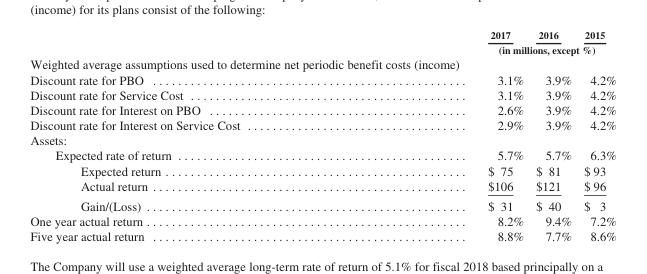table: (29, 28, 615, 242)
table column: (29, 28, 363, 242), (363, 28, 529, 242), (529, 28, 577, 242), (577, 28, 615, 242)
table column header: (29, 28, 615, 56)
table projected row header: (29, 56, 615, 71), (29, 132, 615, 147)
table row: (29, 177, 615, 195), (29, 195, 615, 213), (29, 86, 615, 102), (29, 56, 615, 71), (29, 71, 615, 86), (29, 102, 615, 117), (29, 117, 615, 132), (29, 132, 615, 147), (29, 147, 615, 162), (29, 162, 615, 177), (29, 213, 615, 228), (29, 28, 615, 42), (29, 42, 615, 56), (29, 228, 615, 242)
table spanning cell: (363, 42, 615, 56)
